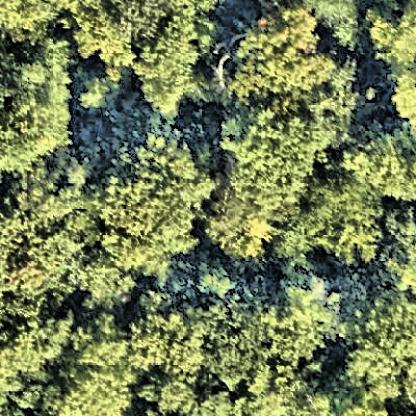tree-top: (196, 99, 338, 258), (73, 1, 216, 122), (101, 134, 216, 282), (1, 162, 109, 307), (222, 5, 338, 104), (281, 169, 389, 267), (1, 30, 73, 169), (186, 290, 283, 391), (41, 328, 142, 416), (341, 294, 416, 401), (132, 279, 207, 380), (275, 275, 341, 369), (1, 311, 72, 381), (351, 127, 416, 201), (137, 373, 232, 416), (1, 1, 77, 52), (362, 4, 416, 72), (243, 367, 307, 416), (310, 1, 364, 56), (378, 68, 416, 131)
